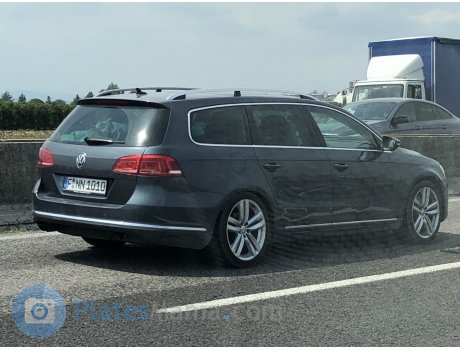License Plates: (59, 174, 108, 189)
